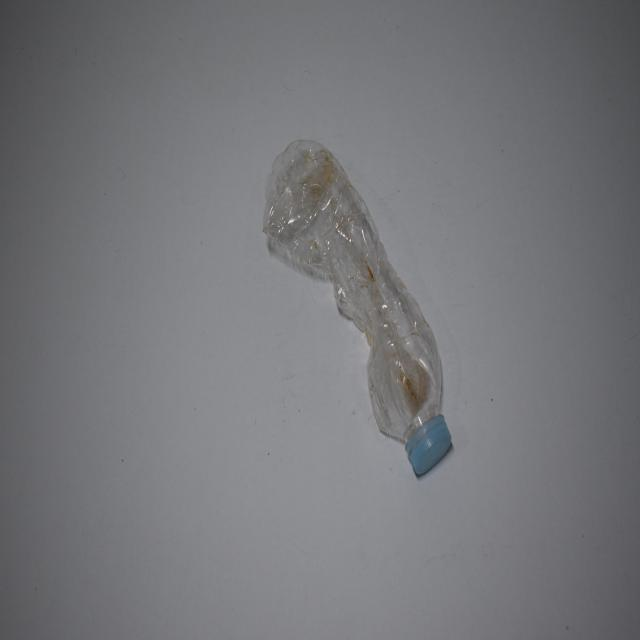bottle: (256, 108, 469, 513)
